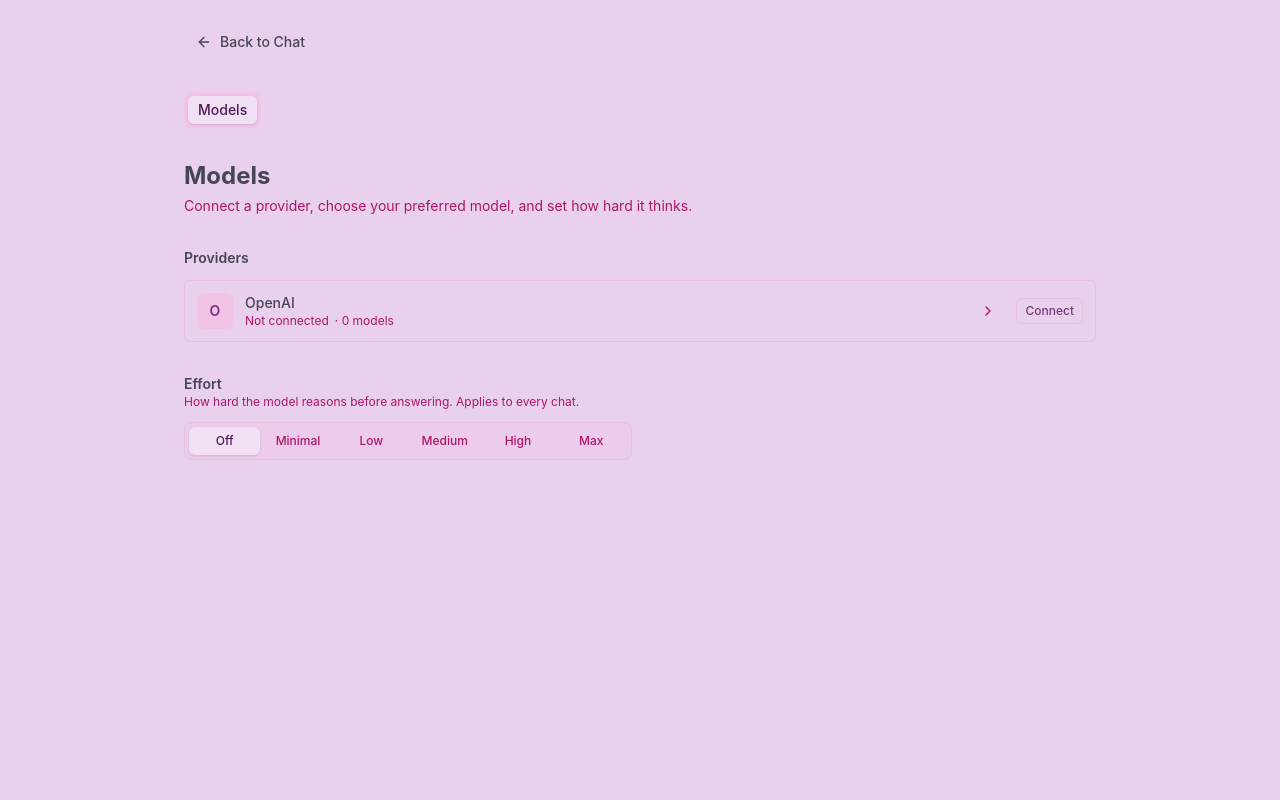
Test: Models settings — failed Connect surfaces Core's reason › renders a ProviderLoginFailedError's sanitized message verbatim in the status line
Click the button "Connect" at (1050, 311), box x1=1016 y1=298 x2=1083 y2=324
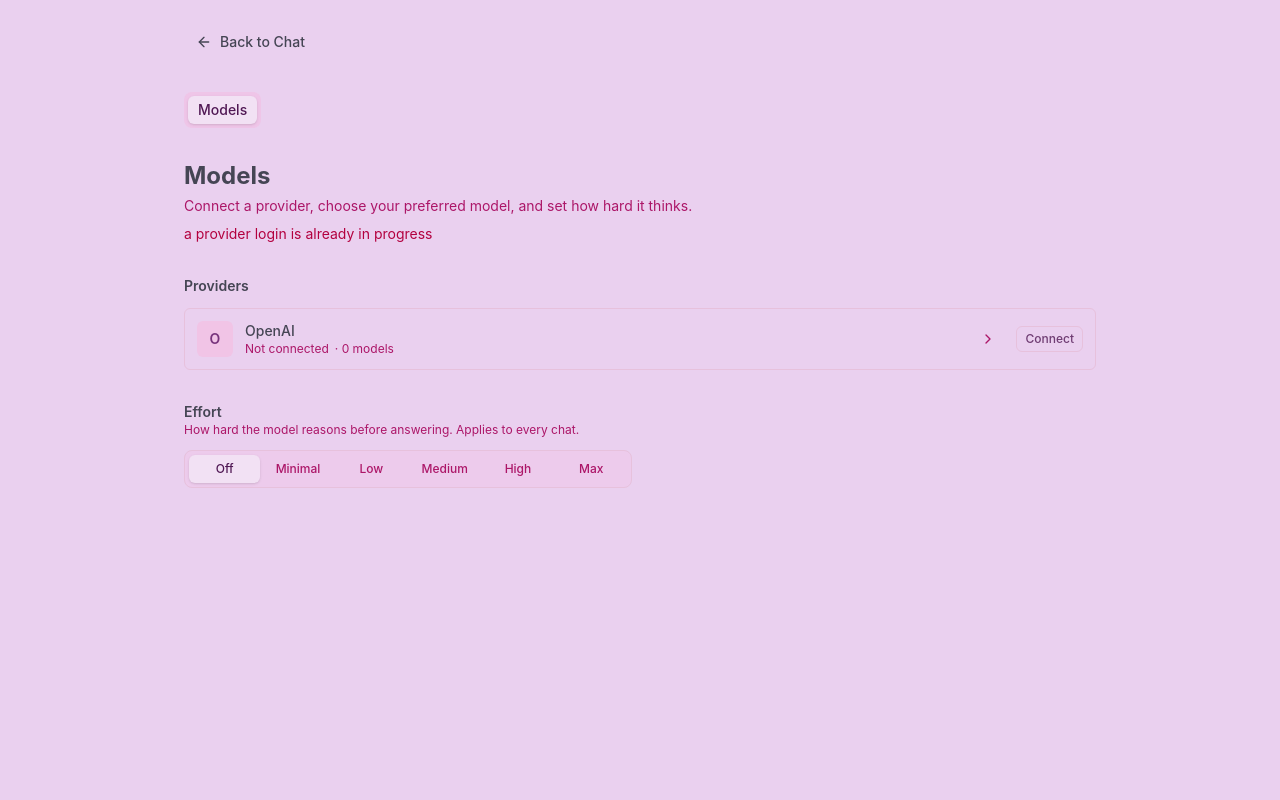
expect the message reads "a provider login is already in progress": met, box x1=184 y1=225 x2=432 y2=242
